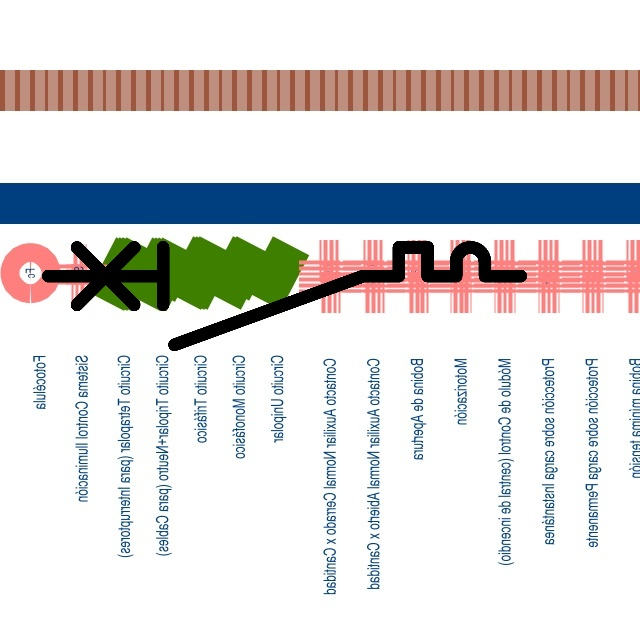interruptor_termomagnetico: (36, 235, 533, 356)
